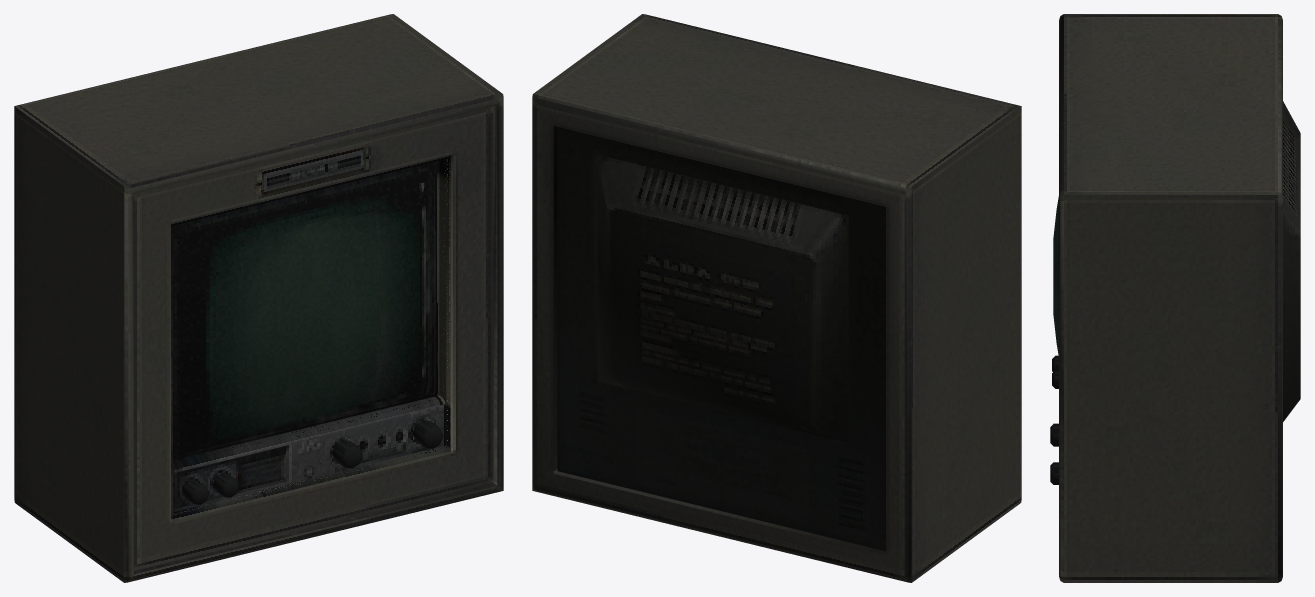
The model's file is screen_1.glb.
3 views of the same model, side by side, from view 1: azimuth 30°, elevation 25°; view 2: azimuth 150°, elevation 25°; view 3: azimuth 270°, elevation 25° (orthographic). The views are drawn at different scales.
Visible parts, largest first — view 1: screen_1; view 2: screen_1; view 3: screen_1.
Boxes of the visible parts, <box> form: screen_1: <box>14,14,503,582</box>; screen_1: <box>532,14,1021,582</box>; screen_1: <box>1050,14,1300,582</box>.
Bounding box in the file's own units: 0.63 × 0.63 × 0.3688.
Materials: 1 (1 with a texture image).
